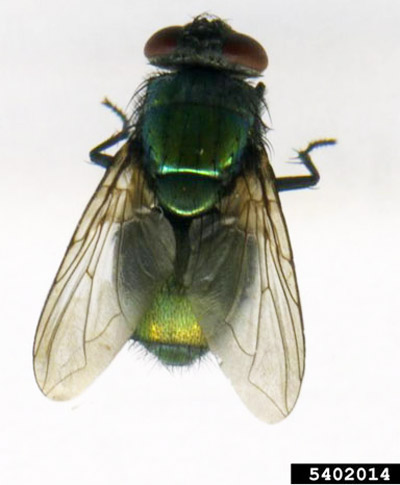green bottles fly: (16, 7, 360, 437)
